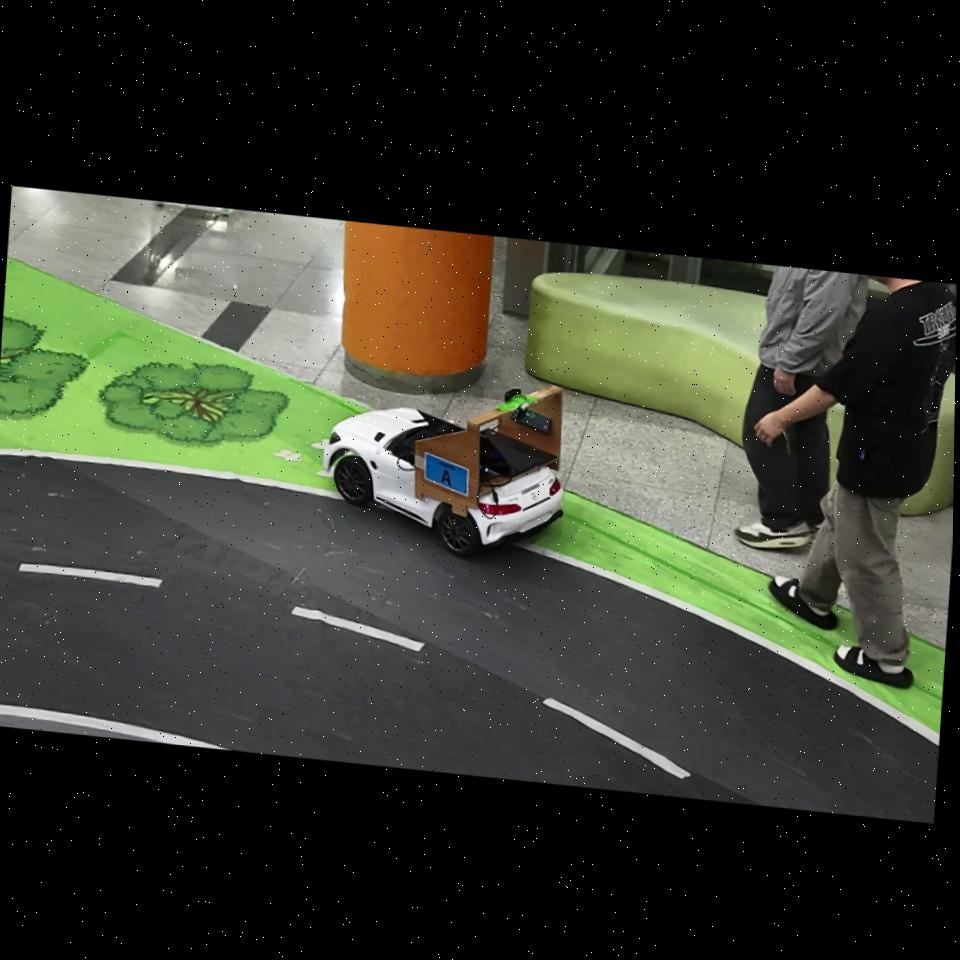broken_line: (542, 698, 692, 779), (291, 606, 425, 652), (18, 563, 163, 588)
